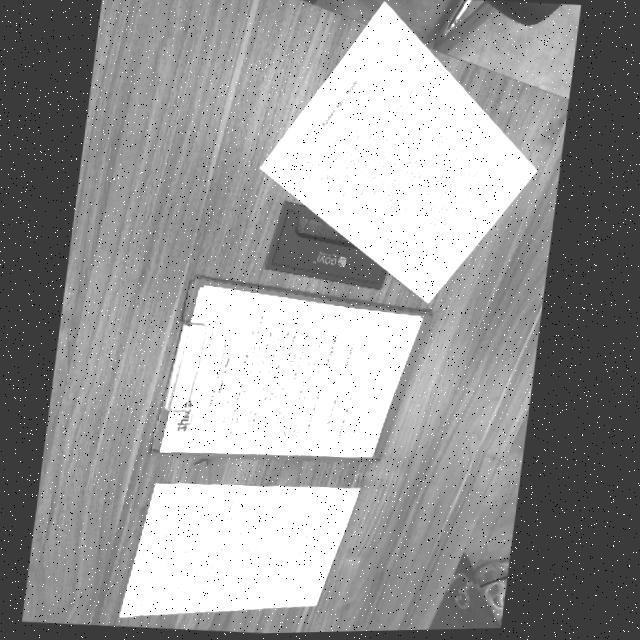document: (259, 1, 537, 303), (159, 284, 422, 456), (118, 483, 360, 617)
